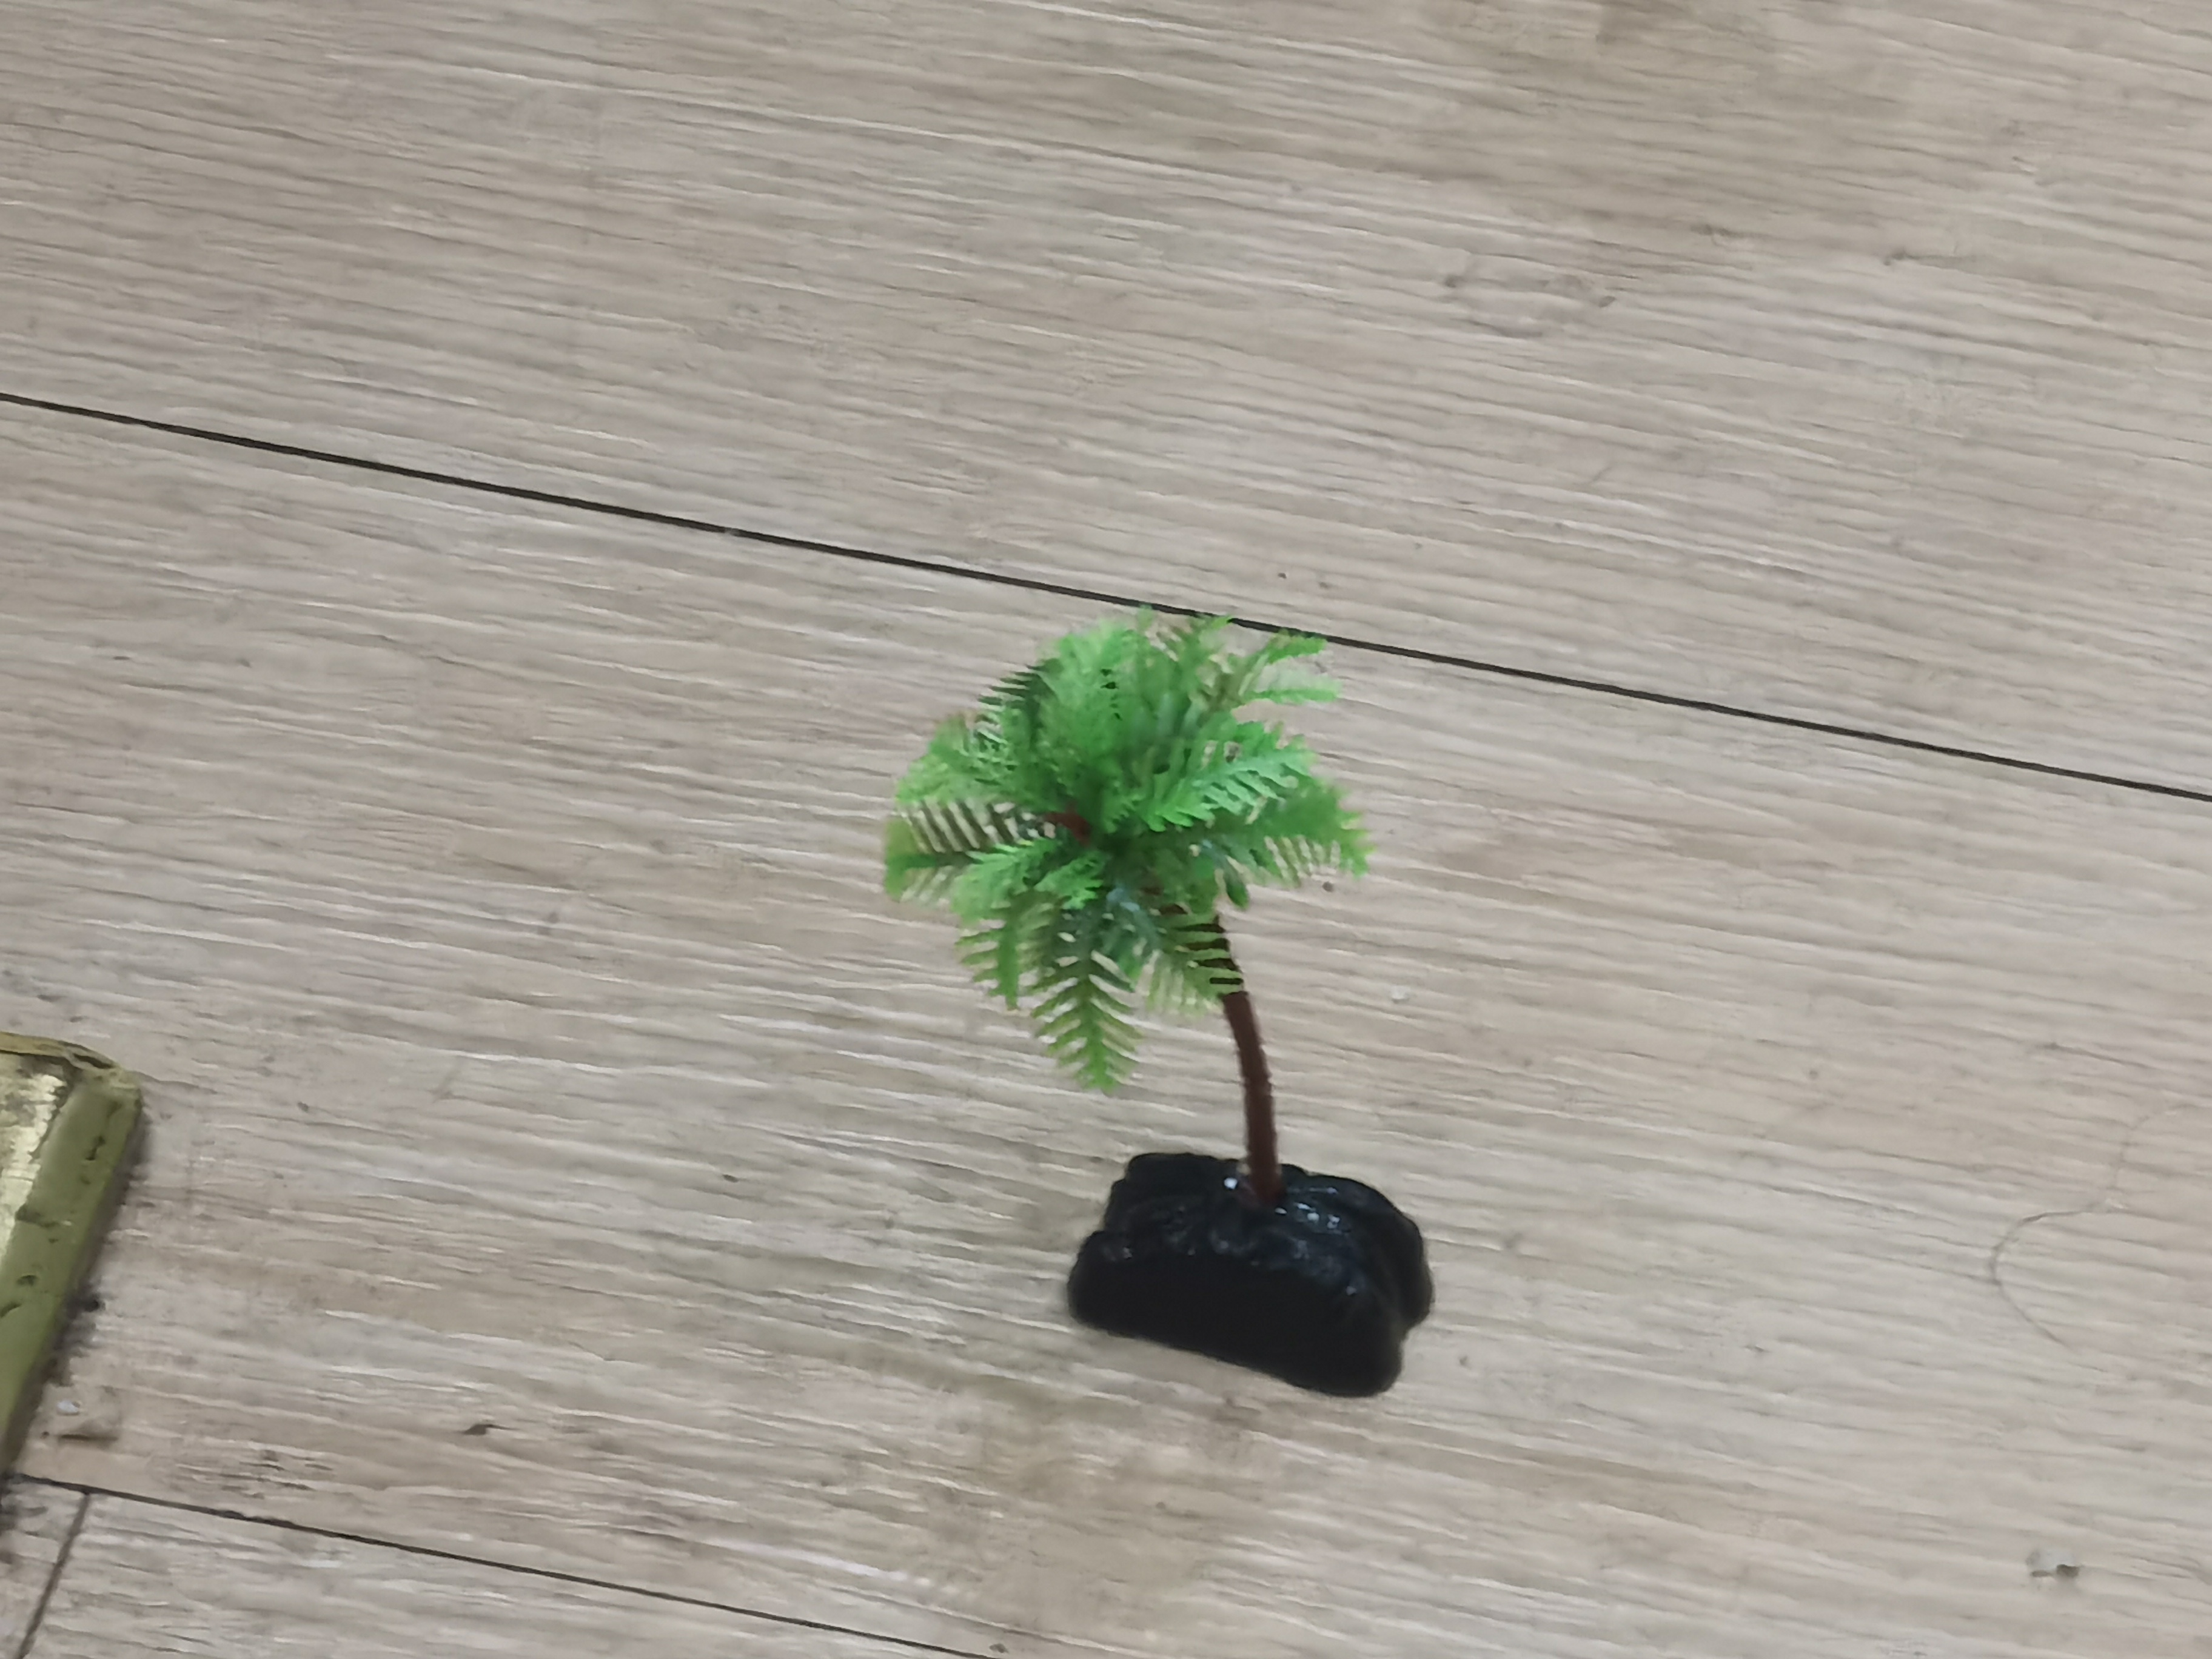corn: (909, 603, 1453, 1408)
